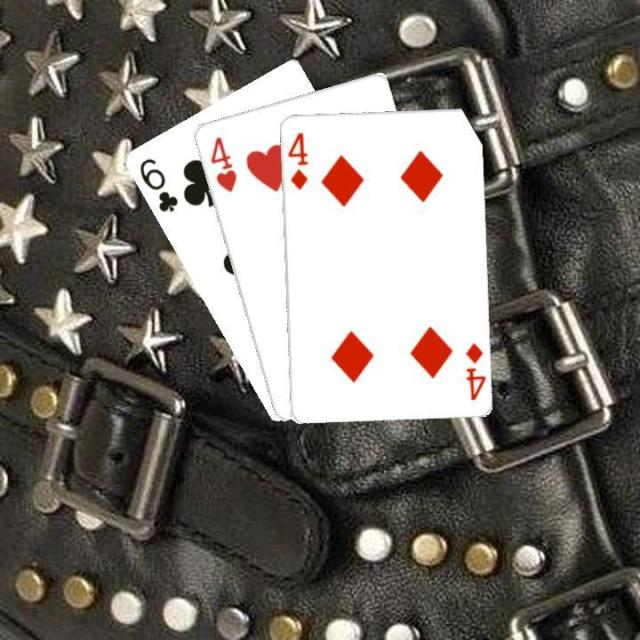4D: (284, 128, 310, 191), (462, 338, 486, 402)
4H: (206, 132, 238, 194)
6C: (134, 154, 180, 214)
